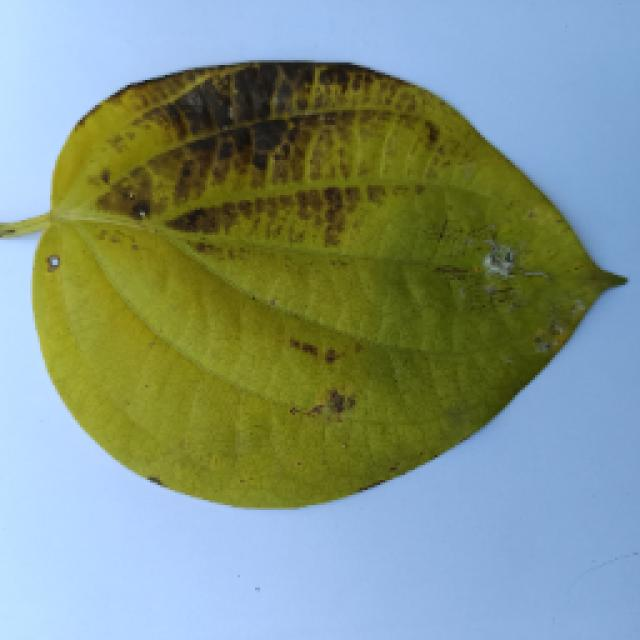slow-decline: (2, 72, 620, 520)
